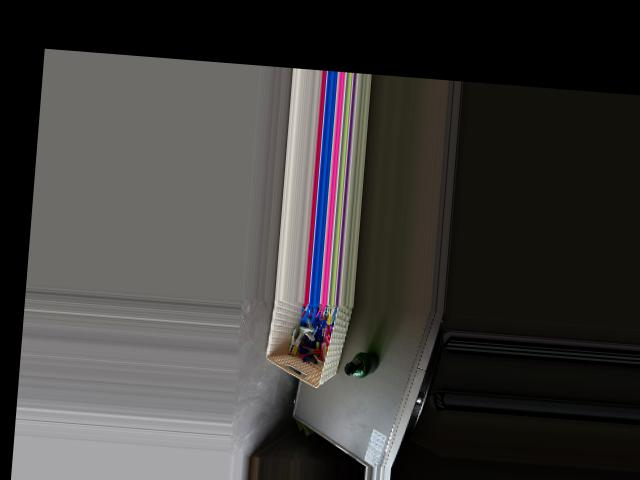beer: (345, 350, 380, 377)
